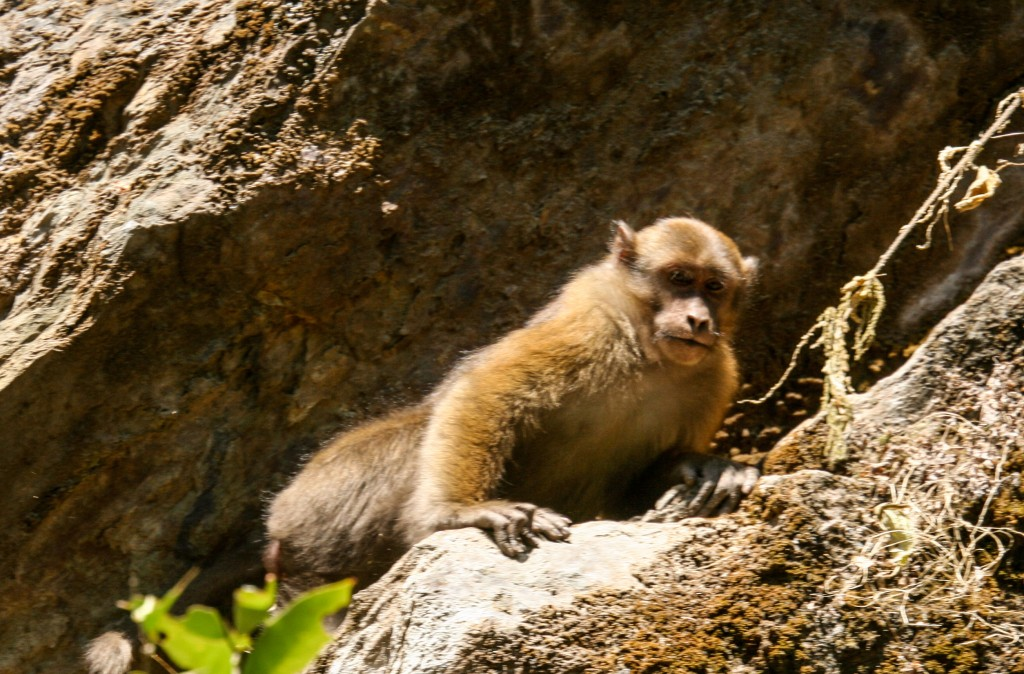monkey: (244, 198, 769, 615)
